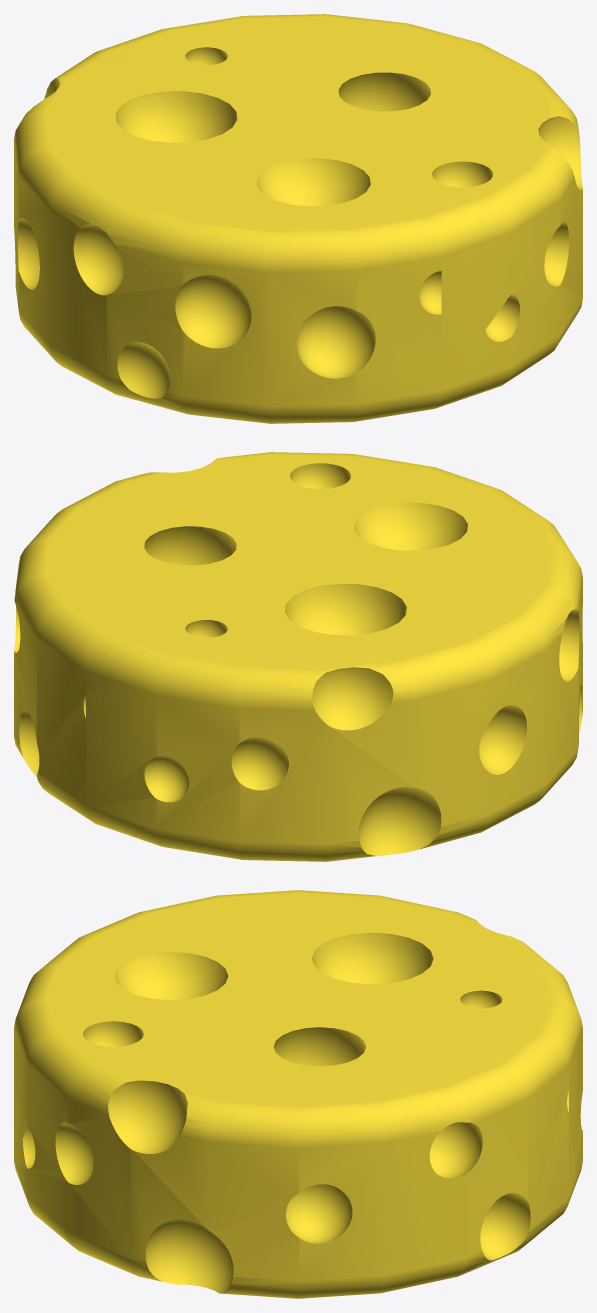
The model's file is Cheese Wheel.fbx.
The picture shows the model from 3 angles, top to bottom: view 1: azimuth 30°, elevation 25°; view 2: azimuth 150°, elevation 25°; view 3: azimuth 270°, elevation 25°; orthographic projection.
Visible parts, largest first — view 1: Cheese_Wheel; view 2: Cheese_Wheel; view 3: Cheese_Wheel.
Part boxes in pixels (<box>): Cheese_Wheel: <box>14,14,582,423</box>; Cheese_Wheel: <box>14,452,582,861</box>; Cheese_Wheel: <box>14,890,582,1298</box>.
Bounding box in the file's own units: 5.63 × 2.07 × 5.63.
